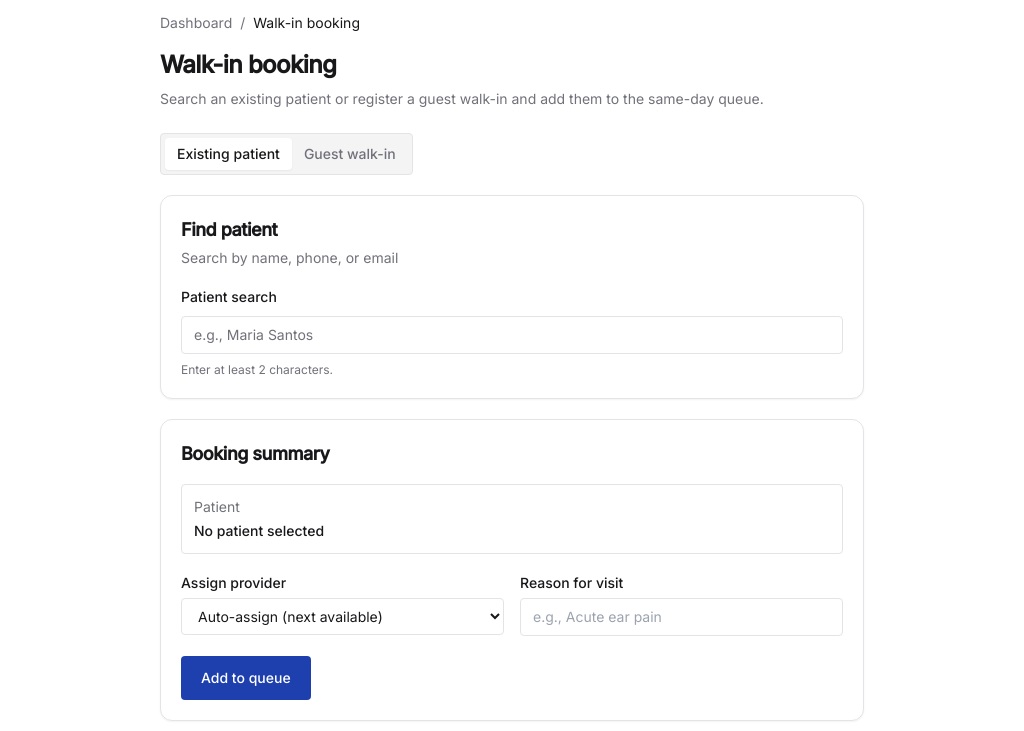
WalkInBookingPage › submits walk-in for an existing patient
The image size is (1024, 731).
Type "ma" into the search field labelled "Patient search" at (512, 335), box [181,316,843,354]
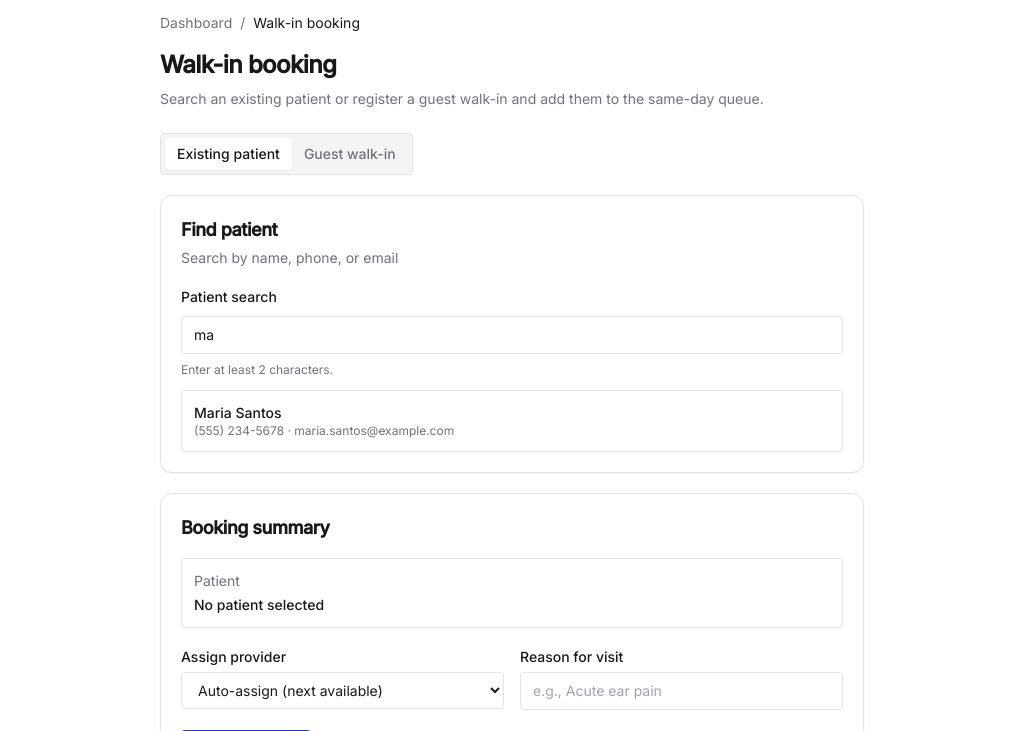
Click the option "Maria Santos (555) 234-5678 · maria.santos@example.com" at (238, 412), box [182,391,842,451]
(page scrolled)
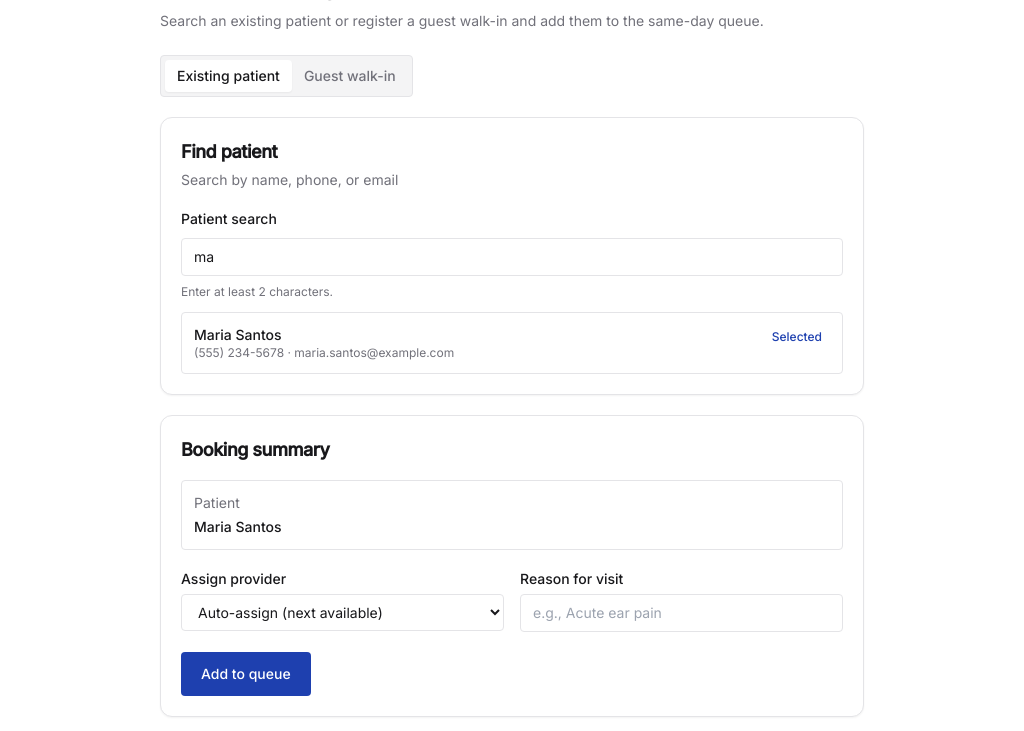
Click the button "Add to queue" at (246, 674), box [181,652,311,696]
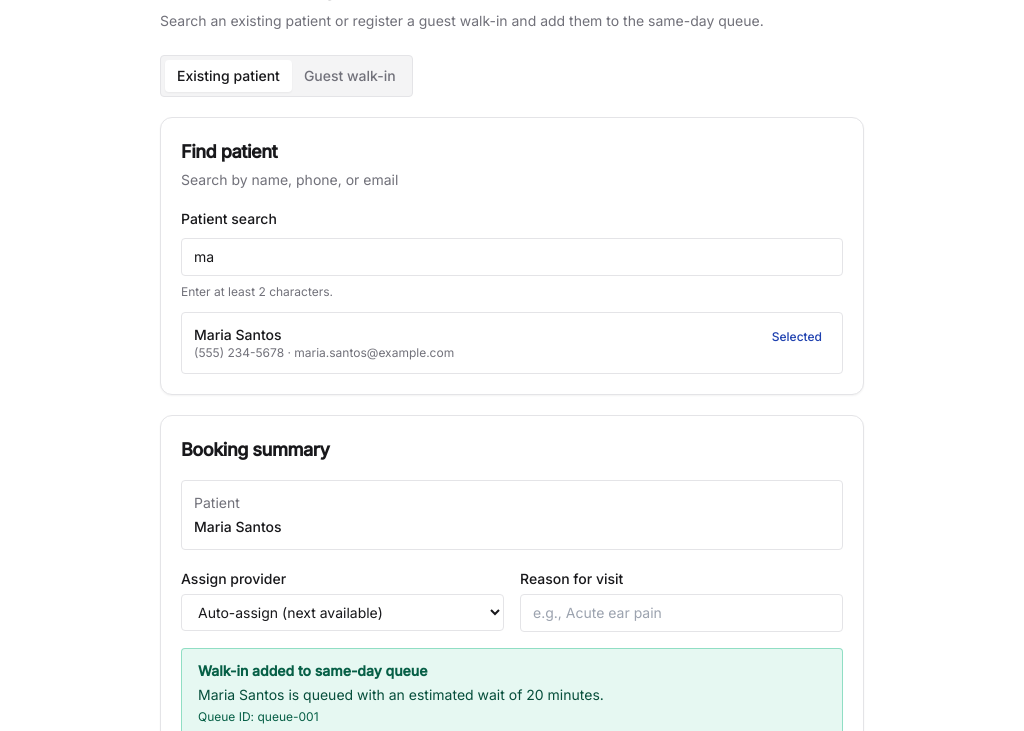
Now the text "Walk-in added to same-day queue" is shown, box [198,662,428,679]
